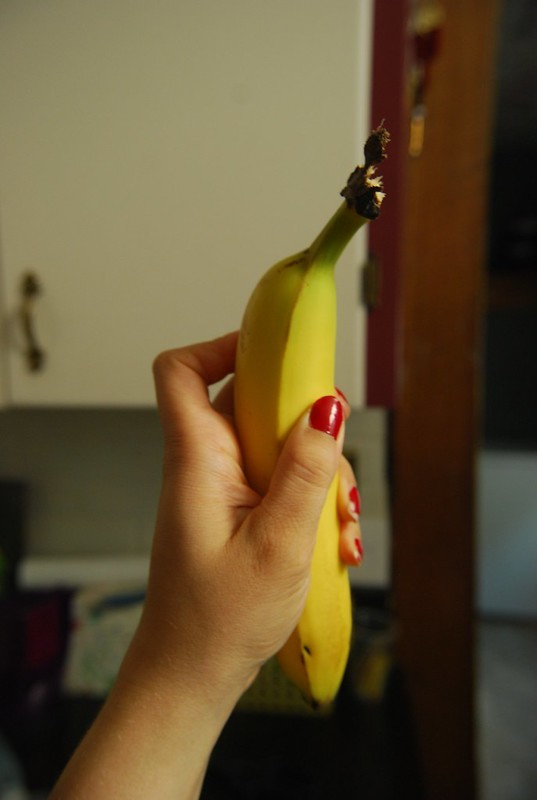banana: (229, 247, 382, 704)
